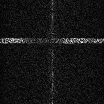wifi: (1, 38, 104, 43)
